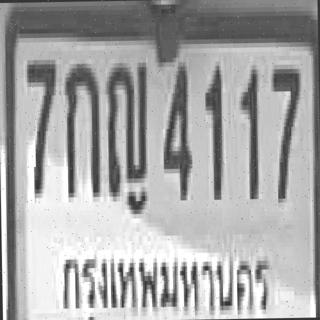A01: (63, 59, 99, 193)
A13: (105, 58, 146, 196)
N01: (238, 65, 258, 194), (203, 61, 221, 195)
N04: (160, 62, 191, 196)
N07: (25, 55, 56, 193), (270, 64, 299, 198)
P04: (56, 237, 276, 320)
